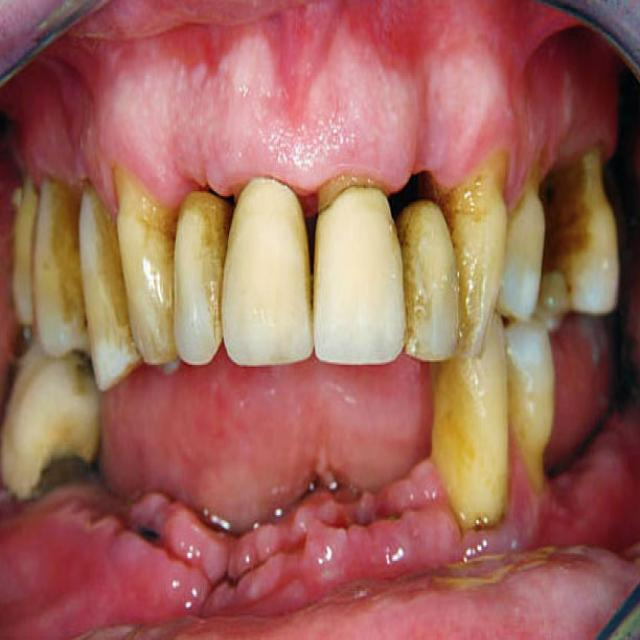caries: (22, 430, 92, 512)
